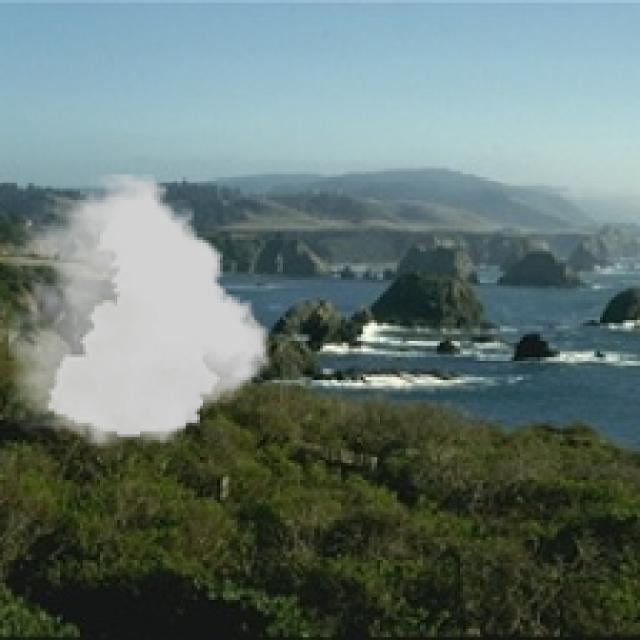Smoke: (8, 174, 268, 449)
